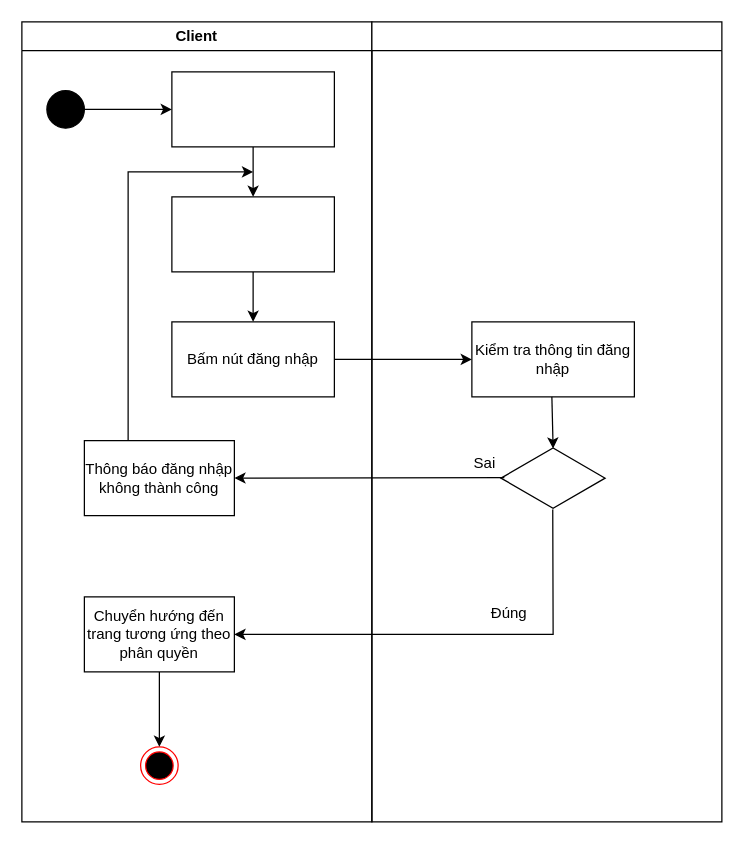
Some shapes in this 744 by 844 pixel diagram are drawn without their labels. The shapes that lost their labels are listed below. From the top down, each one's box as (x1, y1, x2, y2) in pixels, then its label:
(171, 71, 334, 147): Truy cập màn hình đăng nhập
(171, 196, 334, 272): Nhập tên đăng nhập và mật khẩu
(371, 21, 722, 822): Server
